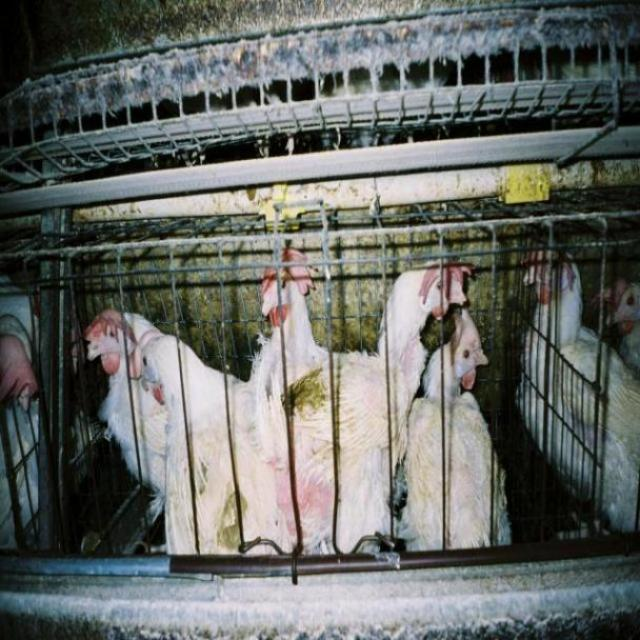Chicken: (244, 232, 401, 560), (126, 332, 295, 568), (512, 239, 640, 536), (75, 318, 192, 544), (375, 253, 478, 403), (585, 278, 640, 381)
